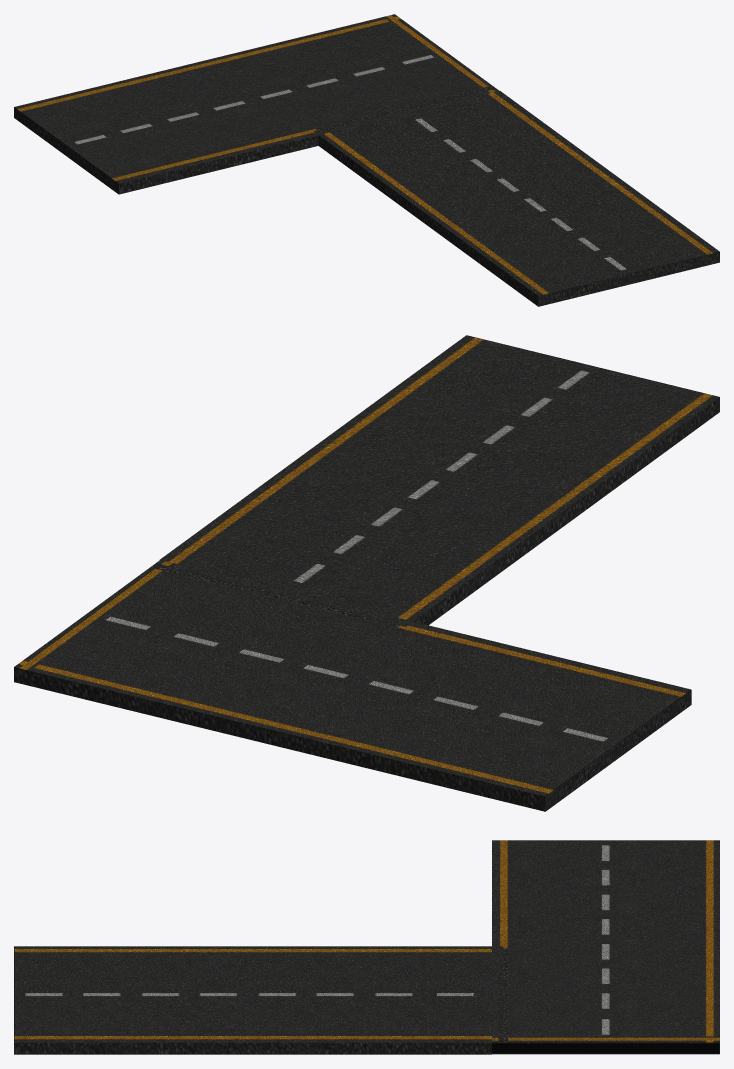
File: leftturnroad.glb
The picture shows the model from 3 angles, top to bottom: view 1: azimuth 30°, elevation 25°; view 2: azimuth 150°, elevation 25°; view 3: azimuth 270°, elevation 25°; orthographic projection. The views are drawn at different scales.
Visible parts, largest first — view 1: road.001; view 2: road.001; view 3: road.001.
Part boxes in pixels (bbox=[...]): road.001: bbox=[14, 14, 719, 306]; road.001: bbox=[14, 335, 719, 811]; road.001: bbox=[14, 840, 719, 1054].
Bounding box in the file's own units: 8.74 × 0.2372 × 12.89.
Materials: 1 (1 with a texture image).
